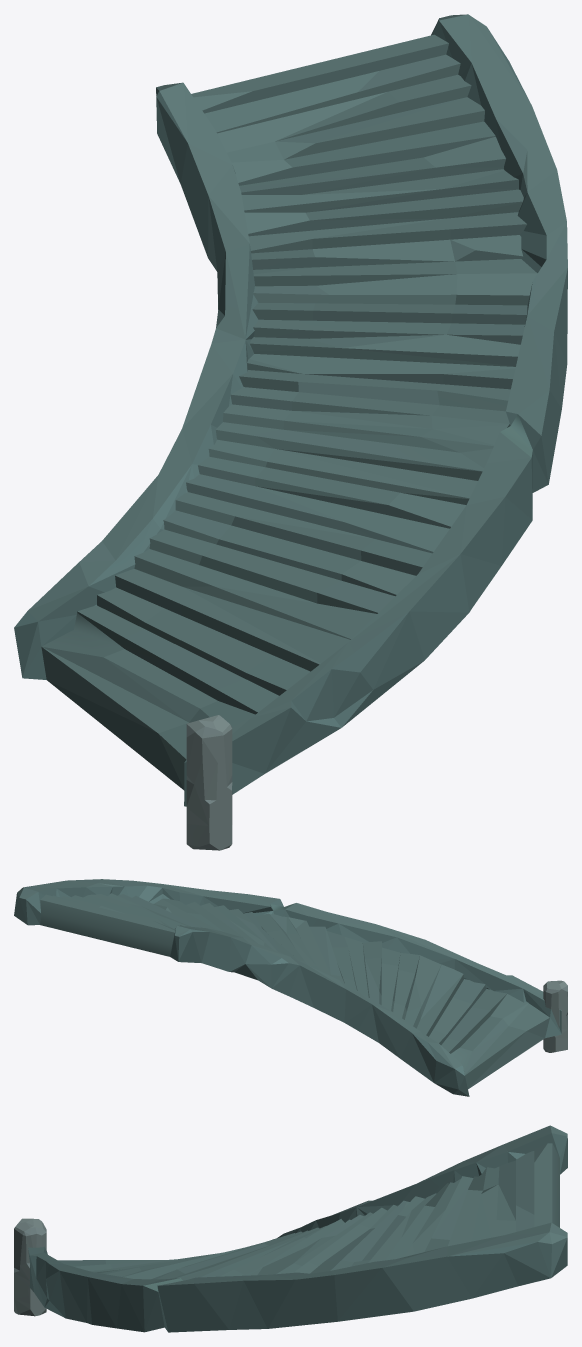
Rendered from Models3.fbx.
3 views of the same model, one above another, from view 1: azimuth 30°, elevation 25°; view 2: azimuth 150°, elevation 25°; view 3: azimuth 270°, elevation 25° (orthographic). The views are drawn at different scales.
Visible parts, largest first — view 1: SM_Env_SpiralStairs_01, SM_Env_Rock_Pillar_04; view 2: SM_Env_SpiralStairs_01, SM_Env_Rock_Pillar_04; view 3: SM_Env_SpiralStairs_01, SM_Env_Rock_Pillar_04.
Part boxes in pixels (box(x1,y1,x2,y2)): SM_Env_SpiralStairs_01: box(14, 14, 567, 806); SM_Env_Rock_Pillar_04: box(186, 715, 232, 850); SM_Env_SpiralStairs_01: box(14, 879, 561, 1096); SM_Env_Rock_Pillar_04: box(543, 980, 567, 1052); SM_Env_SpiralStairs_01: box(28, 1125, 567, 1332); SM_Env_Rock_Pillar_04: box(14, 1218, 46, 1316).
Bounding box in the file's own units: 1051 × 625 × 1064.
